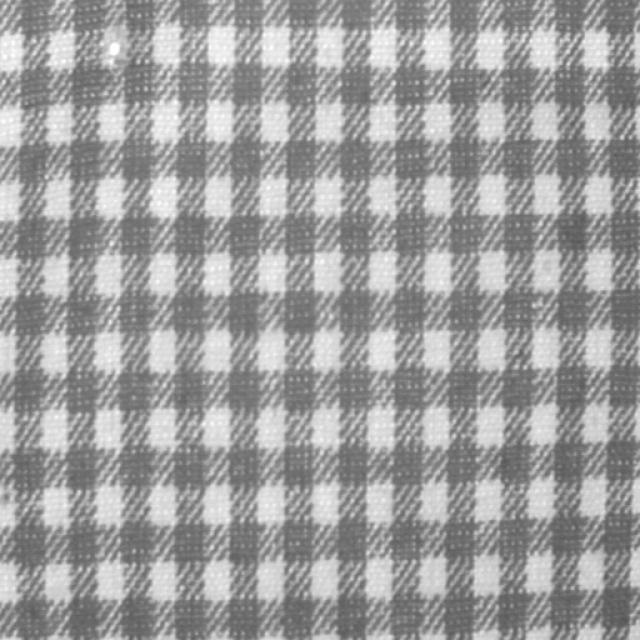Hole-Defect: (104, 38, 125, 64)
